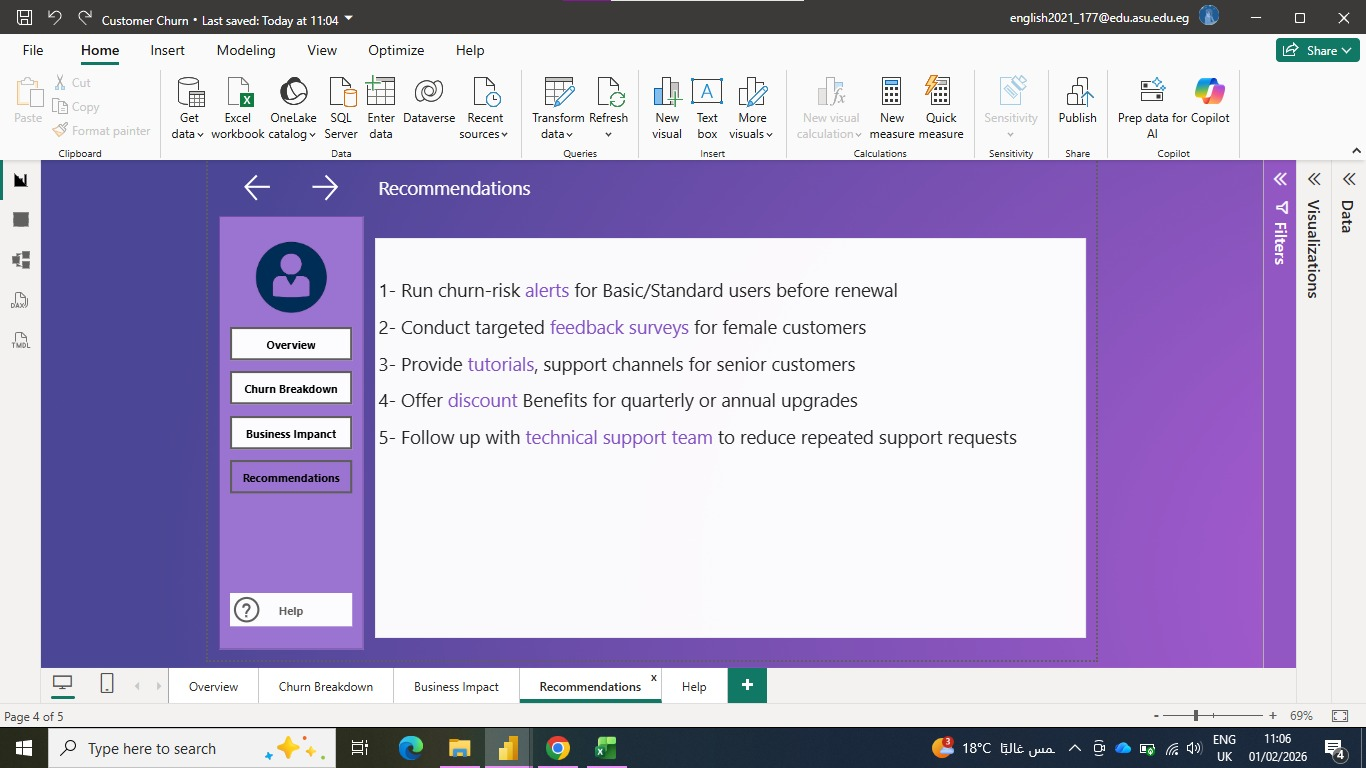

The page's visual inventory and layout, read from the dashboard file:
{"tool":"powerbi","page":{"name":"Recommendations","canvas":[1280,720],"ordinal":3},"visuals":[{"type":"textbox","box":[240,112,1024,576],"z":0},{"type":"textbox","box":[240,16,1024,48],"z":1000},{"type":"shape","box":[16,80,208,624],"z":2000},{"type":"actionButton","box":[32,304,176,48],"z":3000},{"type":"actionButton","box":[32,240,176,48],"z":4000},{"type":"actionButton","box":[32,432,176,48],"z":5000},{"type":"actionButton","box":[32,368,176,48],"z":6000},{"type":"image","box":[16,112,208,112],"z":7000},{"type":"actionButton","box":[32,624,176,48],"z":8000},{"type":"actionButton","box":[48,16,64,48],"z":9000},{"type":"actionButton","box":[144,16,64,48],"z":10000}]}

Visuals, with their boxes on the page's 1280x720 design canvas (x1, y1, x2, y2). These are canvas units, not pixel positions in the 1366x768 screenshot, which may show the page scaled, cropped or inside an application window:
textbox: {"x1": 240, "y1": 112, "x2": 1264, "y2": 688}
textbox: {"x1": 240, "y1": 16, "x2": 1264, "y2": 64}
shape: {"x1": 16, "y1": 80, "x2": 224, "y2": 704}
actionButton: {"x1": 32, "y1": 304, "x2": 208, "y2": 352}
actionButton: {"x1": 32, "y1": 240, "x2": 208, "y2": 288}
actionButton: {"x1": 32, "y1": 432, "x2": 208, "y2": 480}
actionButton: {"x1": 32, "y1": 368, "x2": 208, "y2": 416}
image: {"x1": 16, "y1": 112, "x2": 224, "y2": 224}
actionButton: {"x1": 32, "y1": 624, "x2": 208, "y2": 672}
actionButton: {"x1": 48, "y1": 16, "x2": 112, "y2": 64}
actionButton: {"x1": 144, "y1": 16, "x2": 208, "y2": 64}
